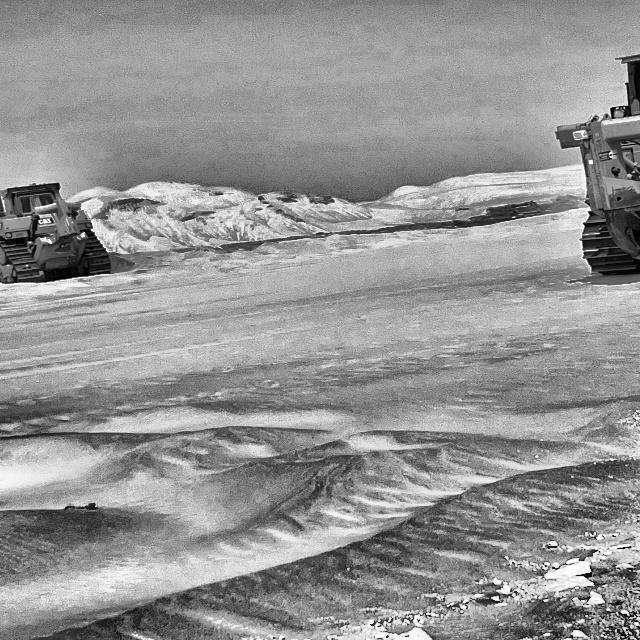buldozerpayloadergrader: (549, 26, 640, 284), (0, 165, 112, 315)
